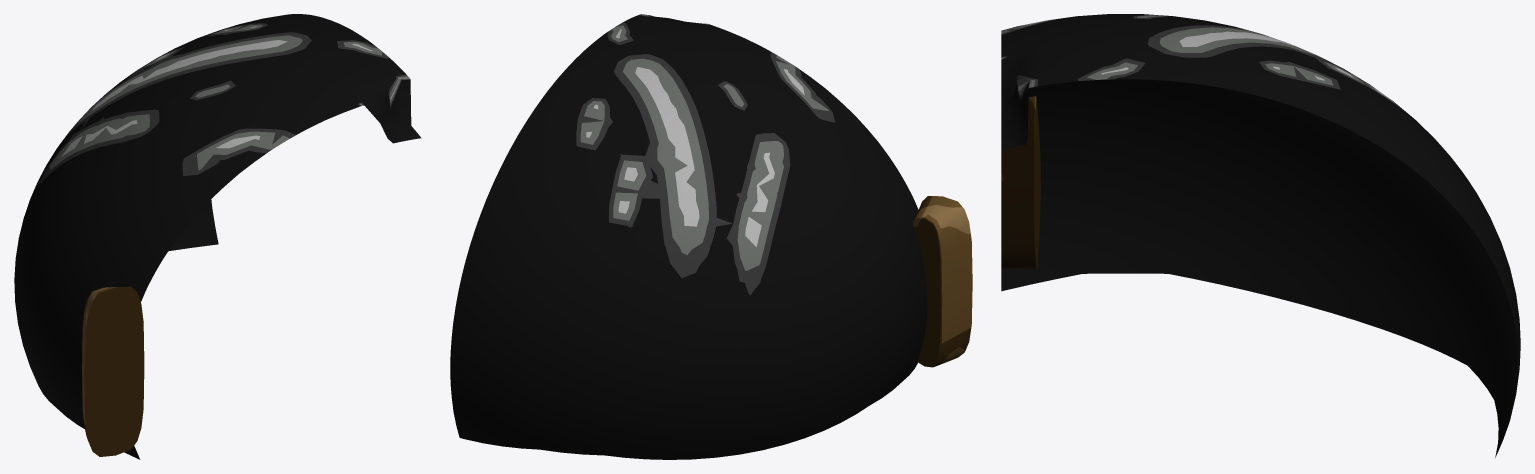
File: claw_orb_tl_wreck.glb
3 views of the same model, side by side, from view 1: azimuth 30°, elevation 25°; view 2: azimuth 150°, elevation 25°; view 3: azimuth 270°, elevation 25° (orthographic). The views are drawn at different scales.
Parts seen in each view (by area): view 1: claw_orb_tl_wreck; view 2: claw_orb_tl_wreck; view 3: claw_orb_tl_wreck.
Part boxes in pixels (x1,y1,x2,y2): claw_orb_tl_wreck: [14, 14, 421, 459]; claw_orb_tl_wreck: [450, 14, 972, 459]; claw_orb_tl_wreck: [1001, 14, 1520, 457].
Bounding box in the file's own units: 21.79 × 19.53 × 23.93.
